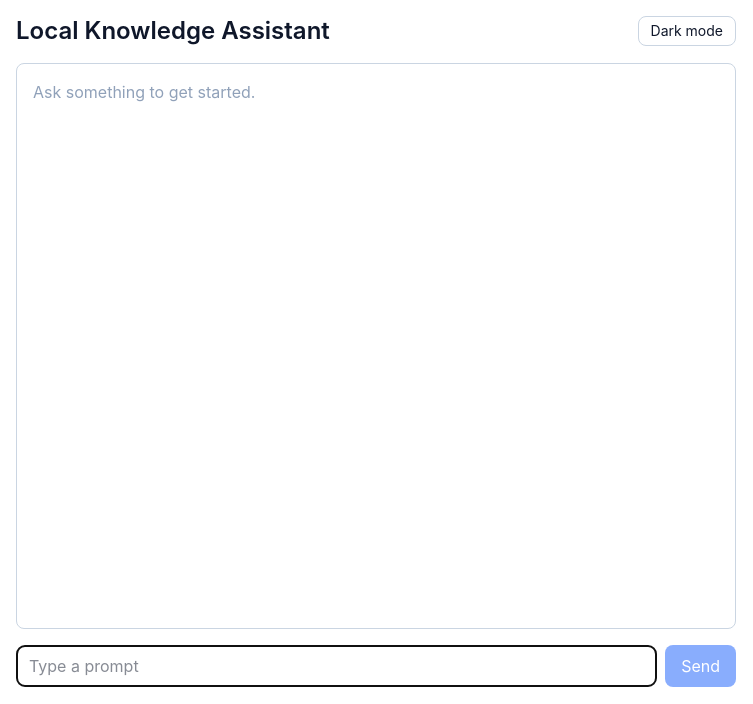
App › clears the input after sending, by button and by Enter
This screenshot has width=753, height=704.
Type "first" into the field with placeholder "Type a prompt" at [337, 666], box [16,645,657,687]
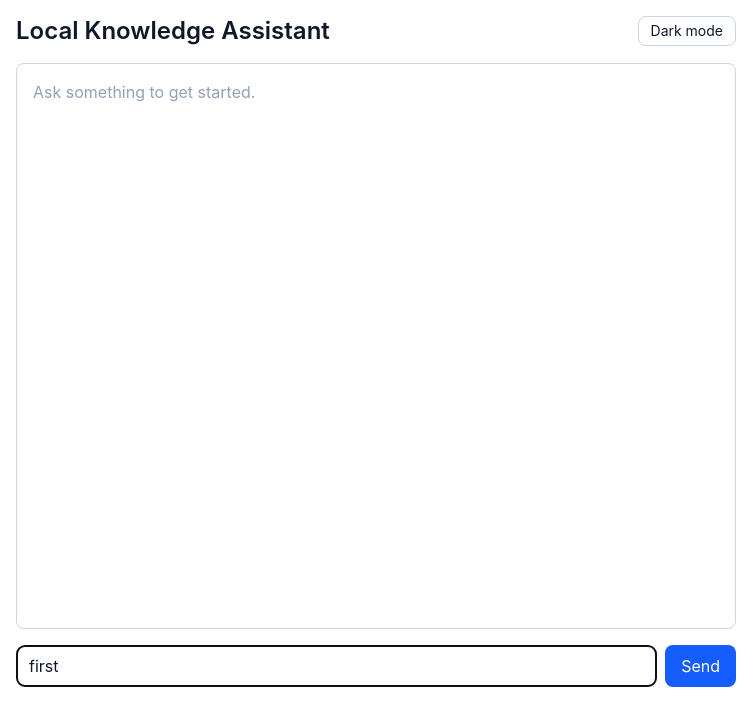
Click the button "Send" at [701, 666], box [665,645,736,687]
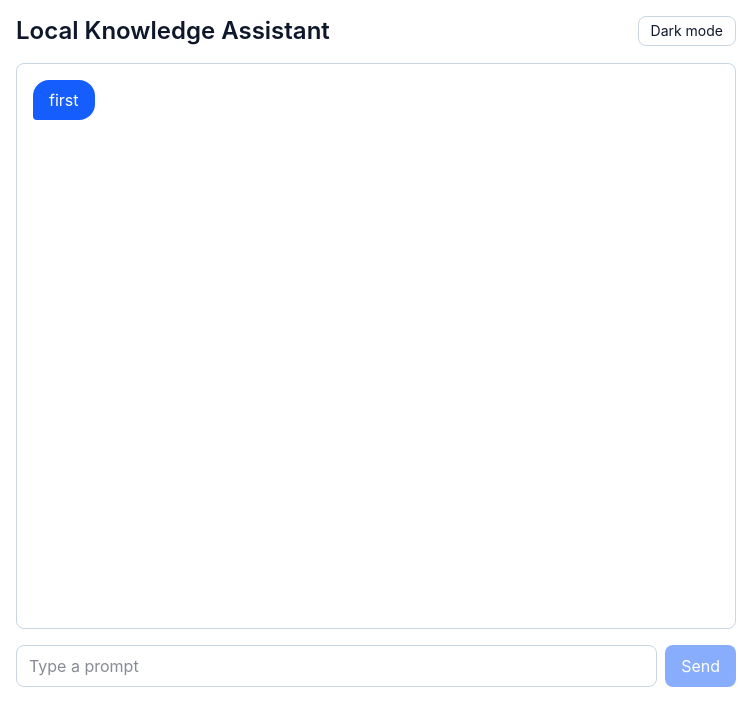
Result: the field with placeholder "Type a prompt" is empty
Type "second" into the field with placeholder "Type a prompt" at [337, 666], box [16,645,657,687]
Then press Enter
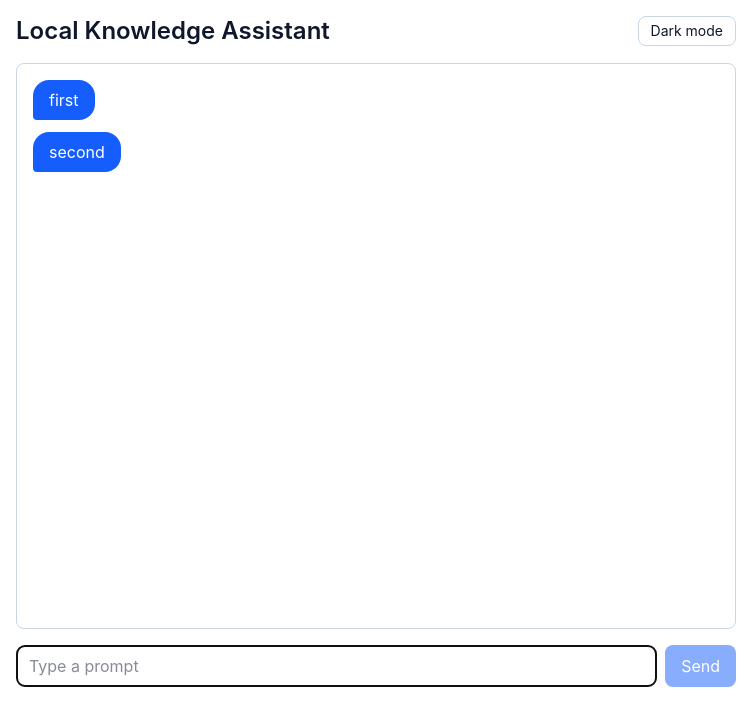
Result: the field with placeholder "Type a prompt" is empty at [16,645,657,687]
